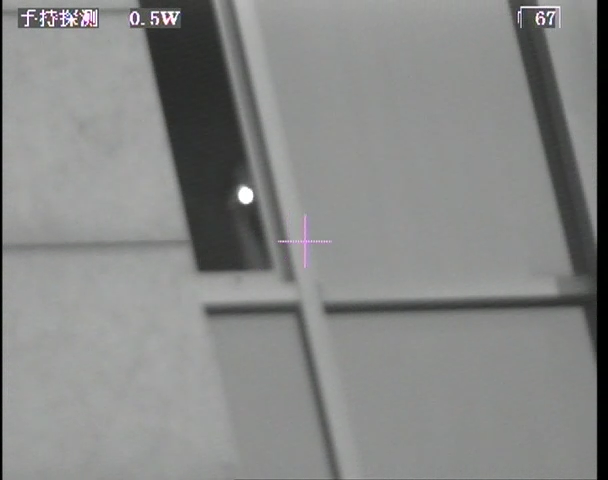my: (236, 183, 256, 206)
